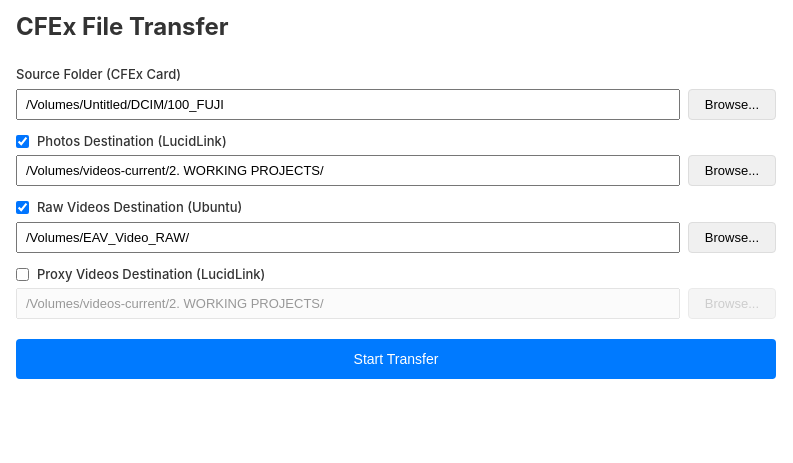
Test case: CfexTransferWindow › Browse Button Timeout Cleanup (Issue #1) › clears timeout when selectFolder rejects immediately
Note: Click Browse button
Click the 1st button "Browse...": (732, 104) [688,88,776,120]
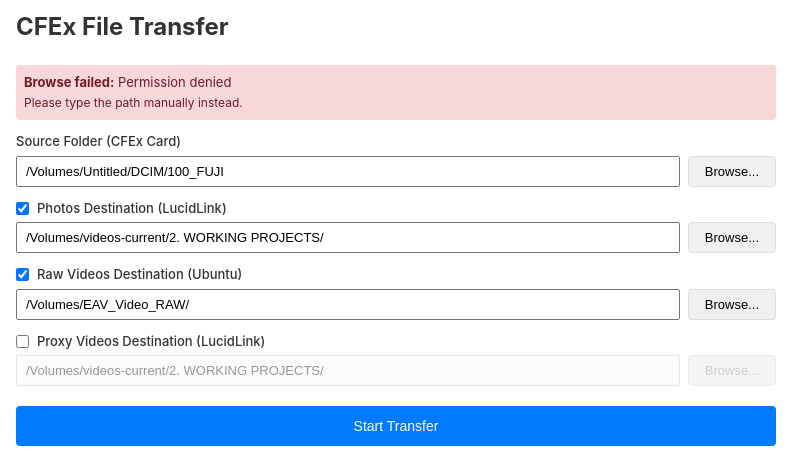
Now the text "Permission denied" is shown, box [118,74,231,90]
